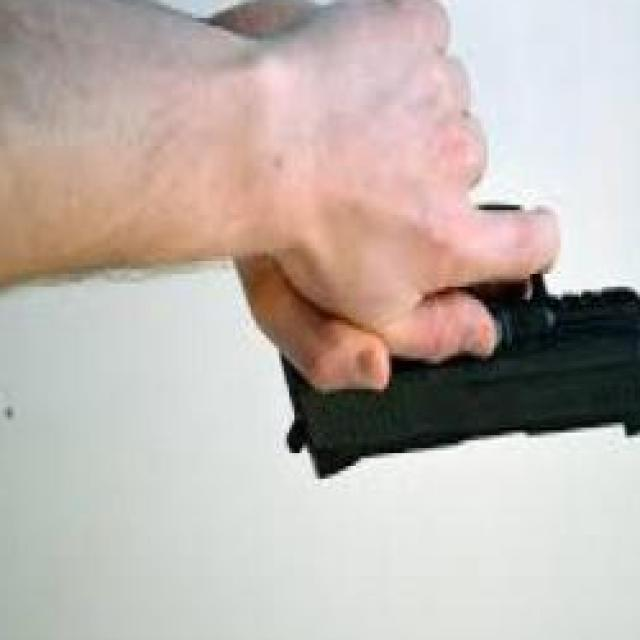pistol: (259, 192, 640, 530)
